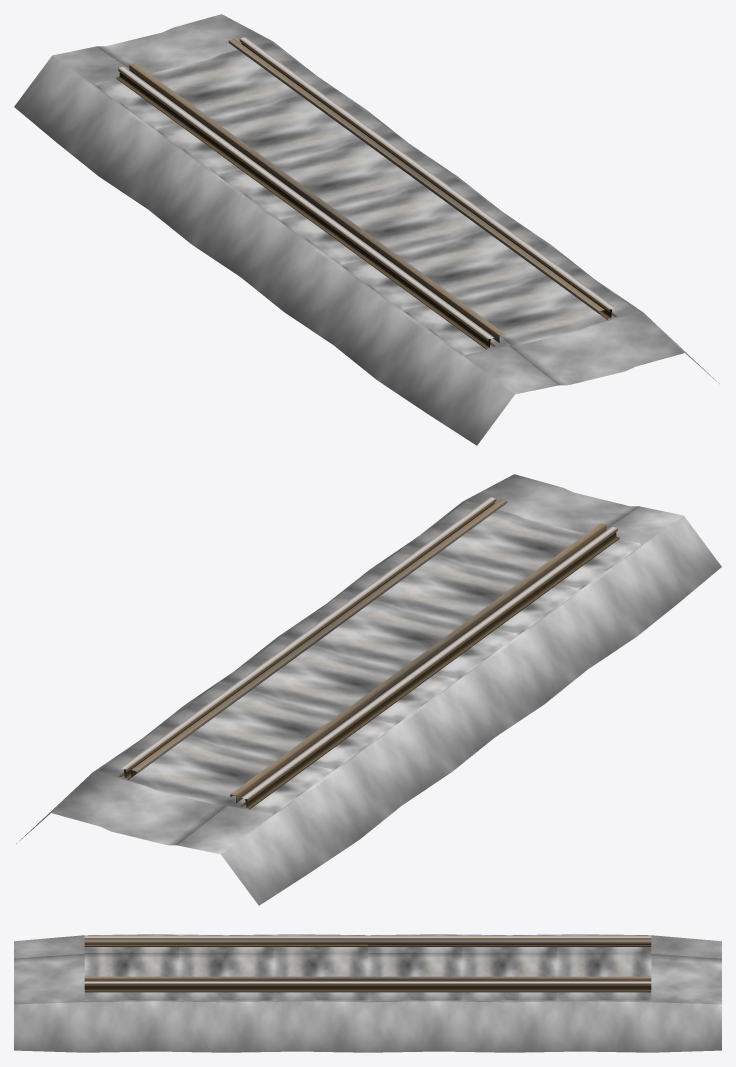
File: HT_1RAIL_25.glb
3 views of the same model, one above another, from view 1: azimuth 30°, elevation 25°; view 2: azimuth 150°, elevation 25°; view 3: azimuth 270°, elevation 25° (orthographic). The views are drawn at different scales.
Visible parts, largest first — view 1: obj3, R000_RG_R2, R000_RG_L2; view 2: obj3, R000_RG_R2, R000_RG_L2; view 3: obj3, R000_RG_R2, R000_RG_L2.
Boxes of the visible parts, x1=… form: obj3: x1=14, y1=14, x2=719, y2=445; R000_RG_R2: x1=129, y1=63, x2=504, y2=342; R000_RG_L2: x1=228, y1=39, x2=604, y2=313; obj3: x1=16, y1=474, x2=721, y2=905; R000_RG_R2: x1=230, y1=523, x2=606, y2=802; R000_RG_L2: x1=131, y1=499, x2=507, y2=777; obj3: x1=14, y1=934, x2=721, y2=1052; R000_RG_R2: x1=84, y1=939, x2=651, y2=945; R000_RG_L2: x1=84, y1=976, x2=651, y2=981.
Bounding box in the file's own units: 10.07 × 2.21 × 31.25.
Materials: 6 (5 with a texture image).
